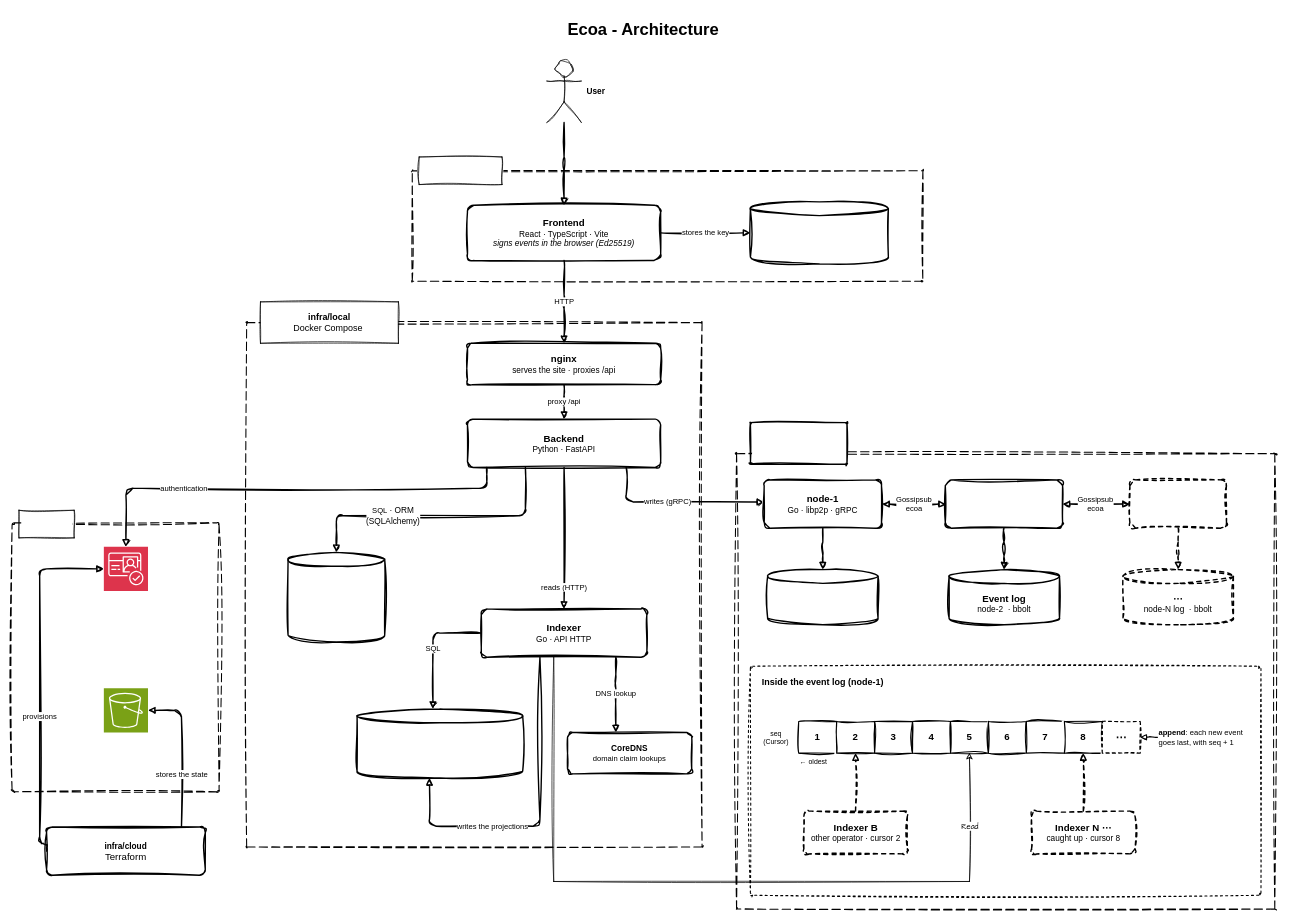
Some shapes in this 1304 by 921 pixel diagram are drawn without their labels. Here are the shapes that lost their labels. From the top down, the box of each, then its label:
(418, 156, 502, 185): Browser
(749, 201, 889, 264): IndexedDB user's Ed25519 key
(749, 422, 847, 464): P2P network Go · libp2p
(18, 510, 74, 538): AWS
(944, 479, 1063, 529): node-2 Go · libp2p · gRPC
(1129, 479, 1227, 529): ⋯ node-N any number of them
(103, 546, 148, 591): Amazon Cognito sign-in · sign-up · JWT
(287, 551, 385, 642): PostgreSQL accounts (users)
(767, 569, 878, 625): Event log node-1 · bbolt (detailed ↓)
(103, 688, 148, 732): Amazon S3 Terraform state
(356, 708, 523, 778): PostgreSQL reviews · entities · profiles
